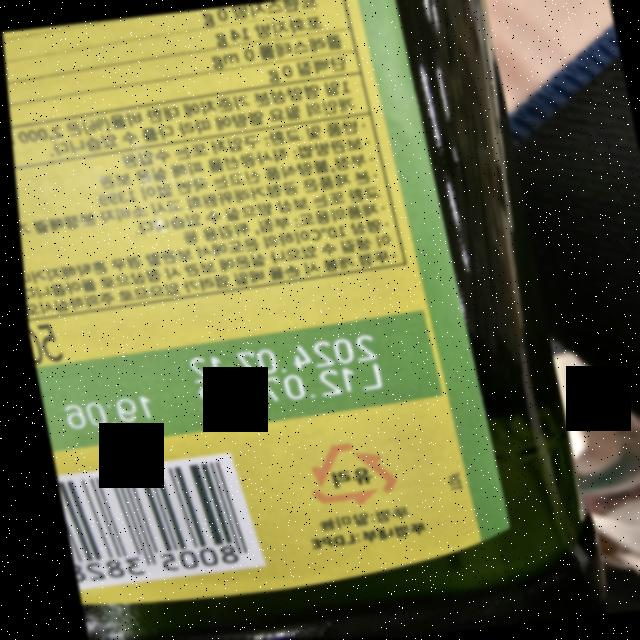Glass: (291, 434, 395, 513)
